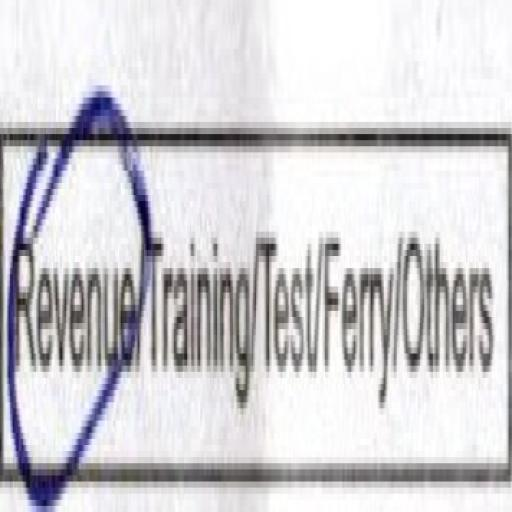check: (0, 43, 146, 512)
